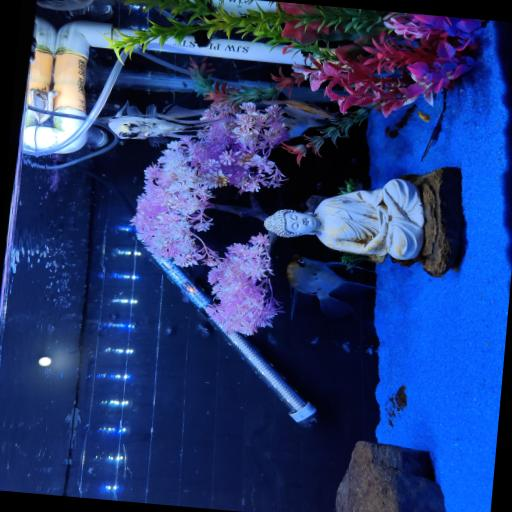Fish: (287, 254, 375, 318), (108, 101, 231, 145), (264, 99, 336, 137), (418, 111, 431, 121)
